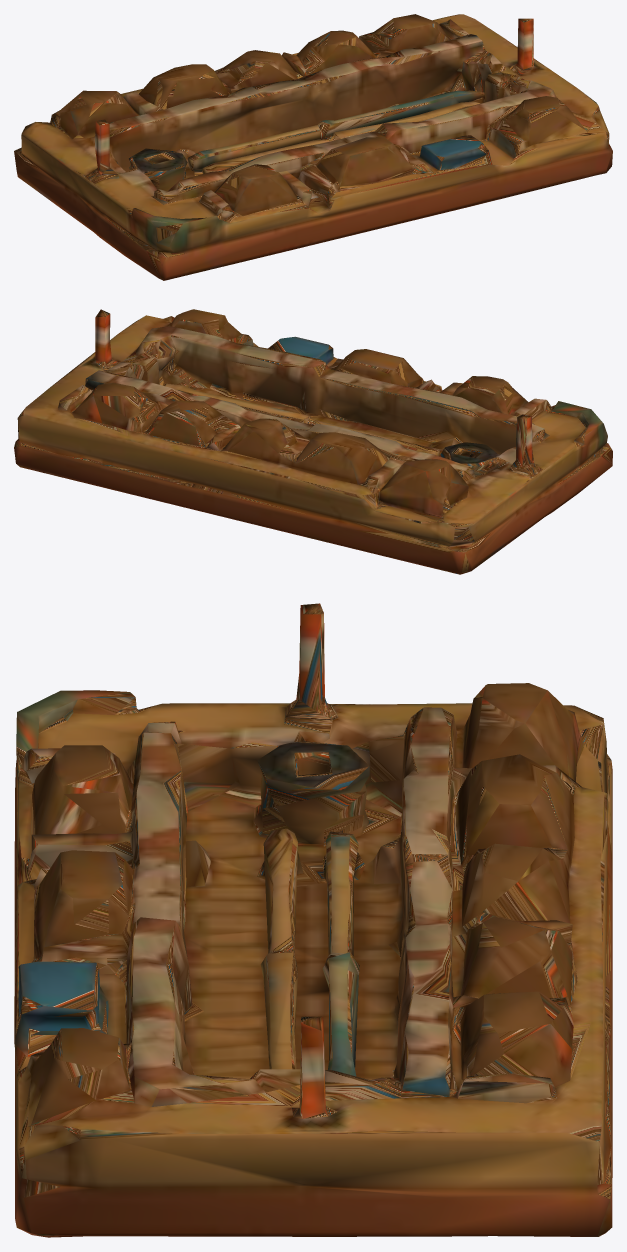
File: trench.glb
3 views of the same model, one above another, from view 1: azimuth 30°, elevation 25°; view 2: azimuth 150°, elevation 25°; view 3: azimuth 270°, elevation 25° (orthographic). The views are drawn at different scales.
Visible parts, largest first — view 1: tripo_node_1cecdd90; view 2: tripo_node_1cecdd90; view 3: tripo_node_1cecdd90.
Boxes of the visible parts, bbox=[...] form: tripo_node_1cecdd90: bbox=[14, 14, 612, 280]; tripo_node_1cecdd90: bbox=[14, 309, 612, 574]; tripo_node_1cecdd90: bbox=[14, 603, 612, 1237].
Size of the model in its own units: 97.9 by 21.32 by 55.52.
1 material, 1 textured.
